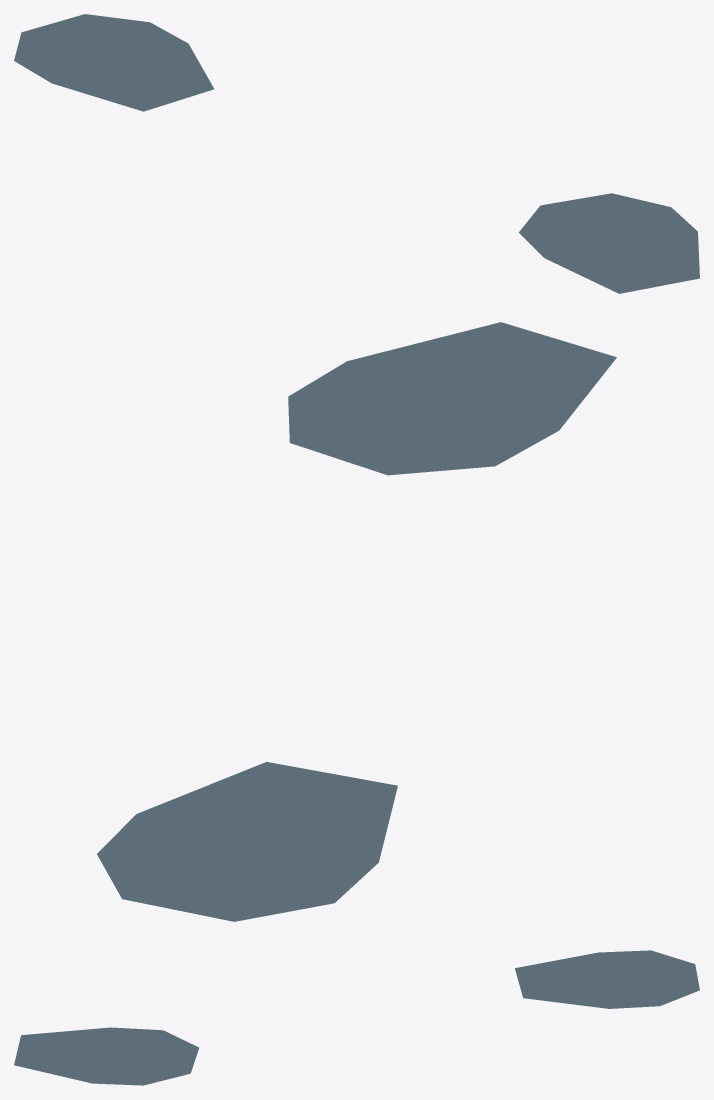
The model's file is wolf footprint mono.fbx.
3 views of the same model, one above another, from view 1: azimuth 30°, elevation 25°; view 2: azimuth 150°, elevation 25°; view 3: azimuth 270°, elevation 25° (orthographic). The views are drawn at different scales.
Parts seen in each view (by area): view 1: pPlane1, pPlane2; view 2: pPlane2, pPlane1; view 3: pPlane2, pPlane1.
Part boxes in pixels (bbox=[...]): pPlane1: bbox=[14, 14, 213, 111]; pPlane2: bbox=[519, 193, 699, 293]; pPlane2: bbox=[288, 322, 616, 475]; pPlane1: bbox=[97, 762, 397, 921]; pPlane2: bbox=[14, 1027, 198, 1085]; pPlane1: bbox=[515, 950, 699, 1008].
Size of the model in its own units: 20.65 by 0 by 44.28.
